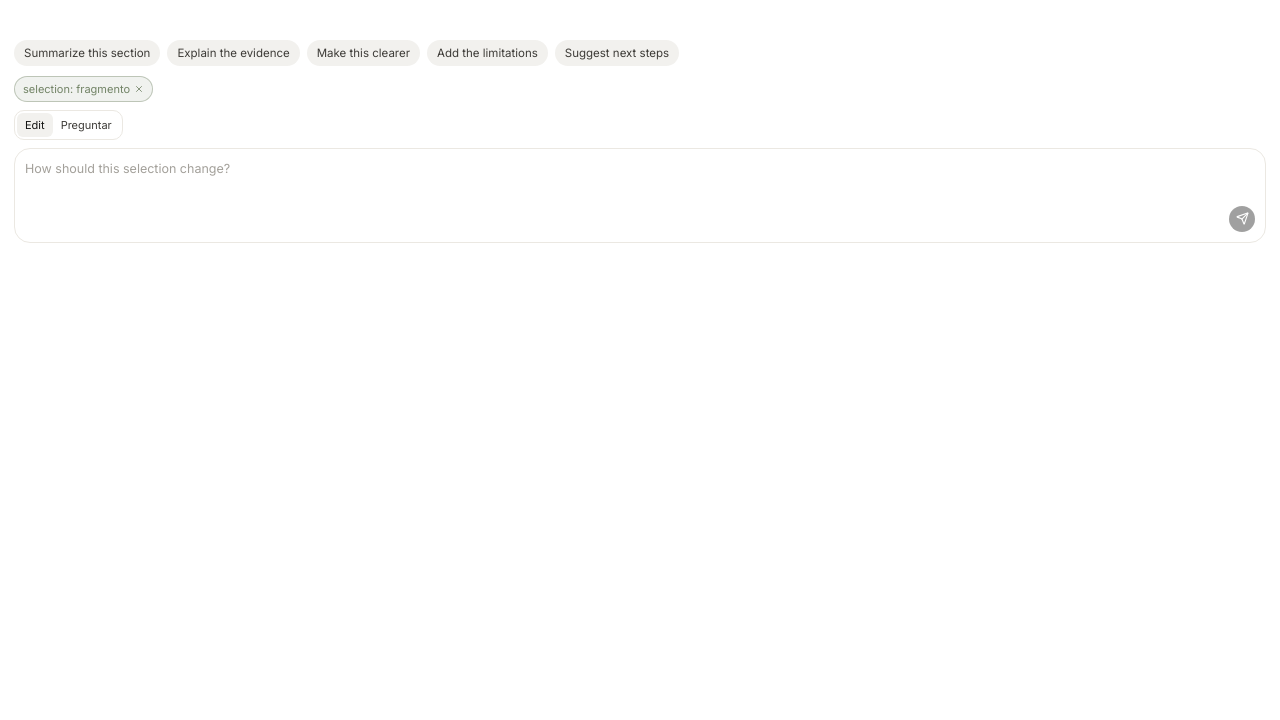
Test: ReportChat › avisa cuando la versión aplicada no dejó registro en la bitácora
The image size is (1280, 720).
In the text box named "Instruction for the editor": (640, 179) [25, 159, 1255, 200], type "Make this clearer"
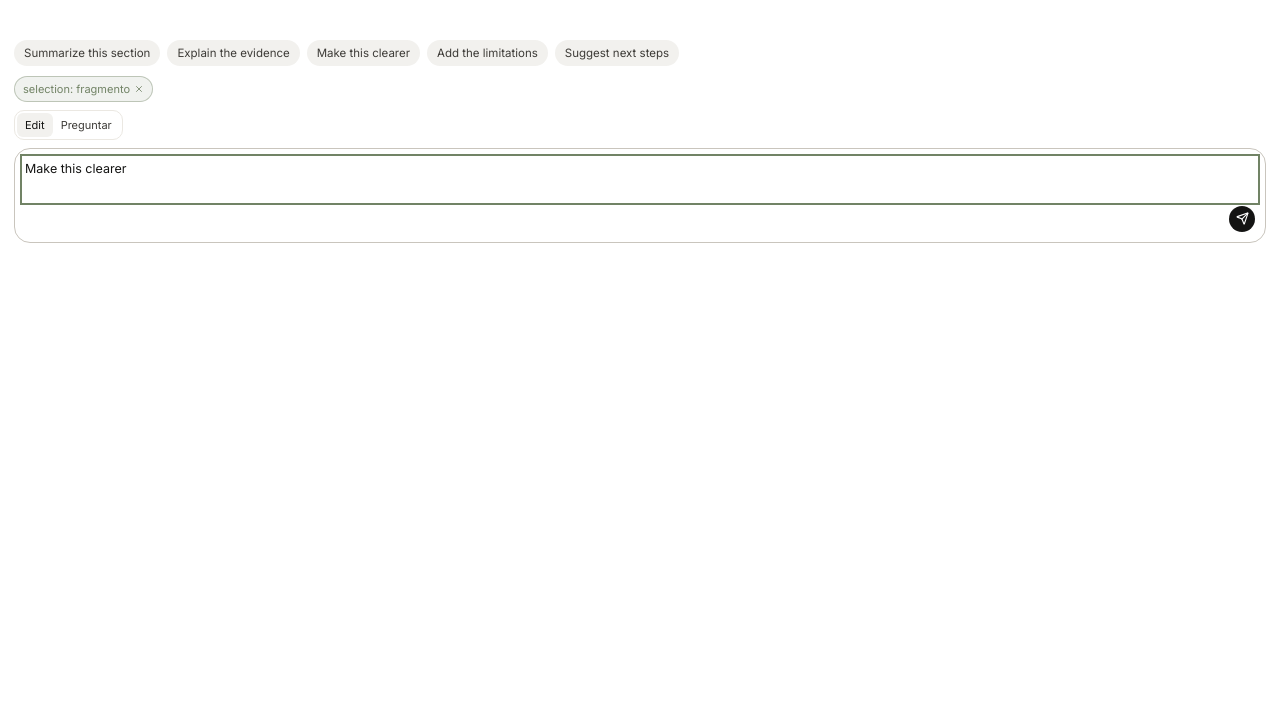
Click the button named "Send": click(1242, 219) [1229, 206, 1255, 232]
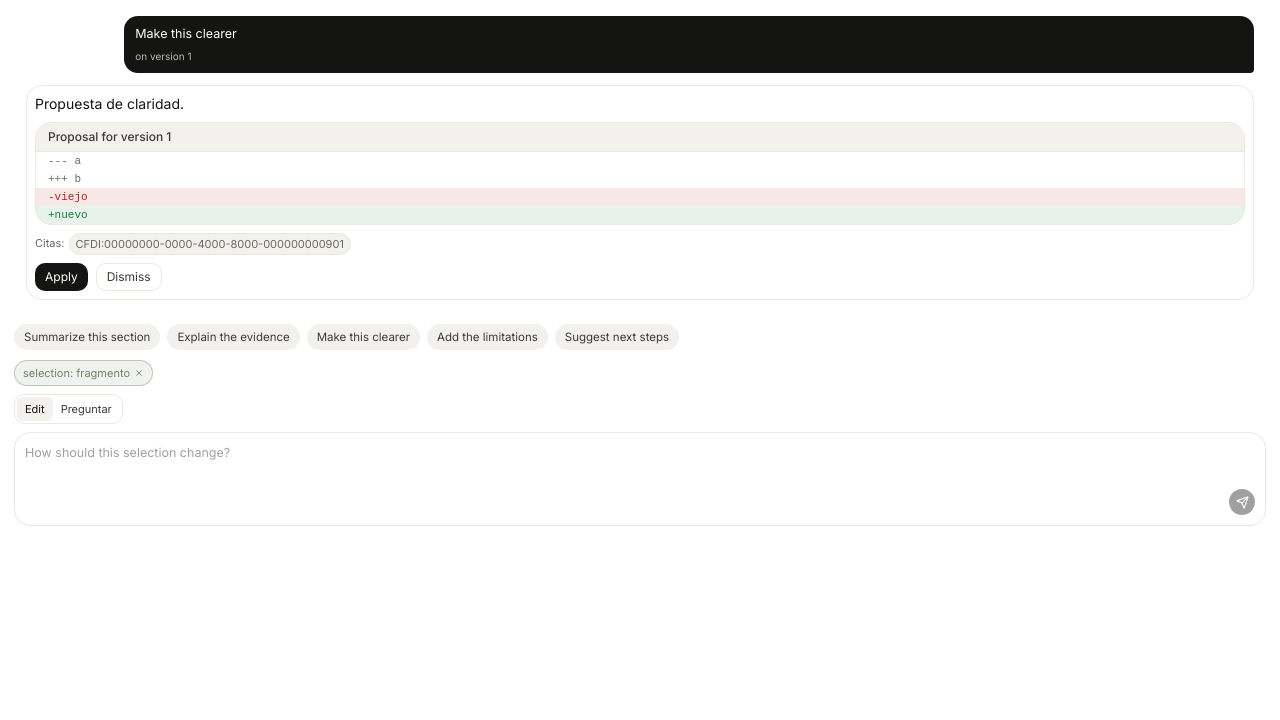
Click the button "Apply": click(61, 277) [35, 263, 88, 291]
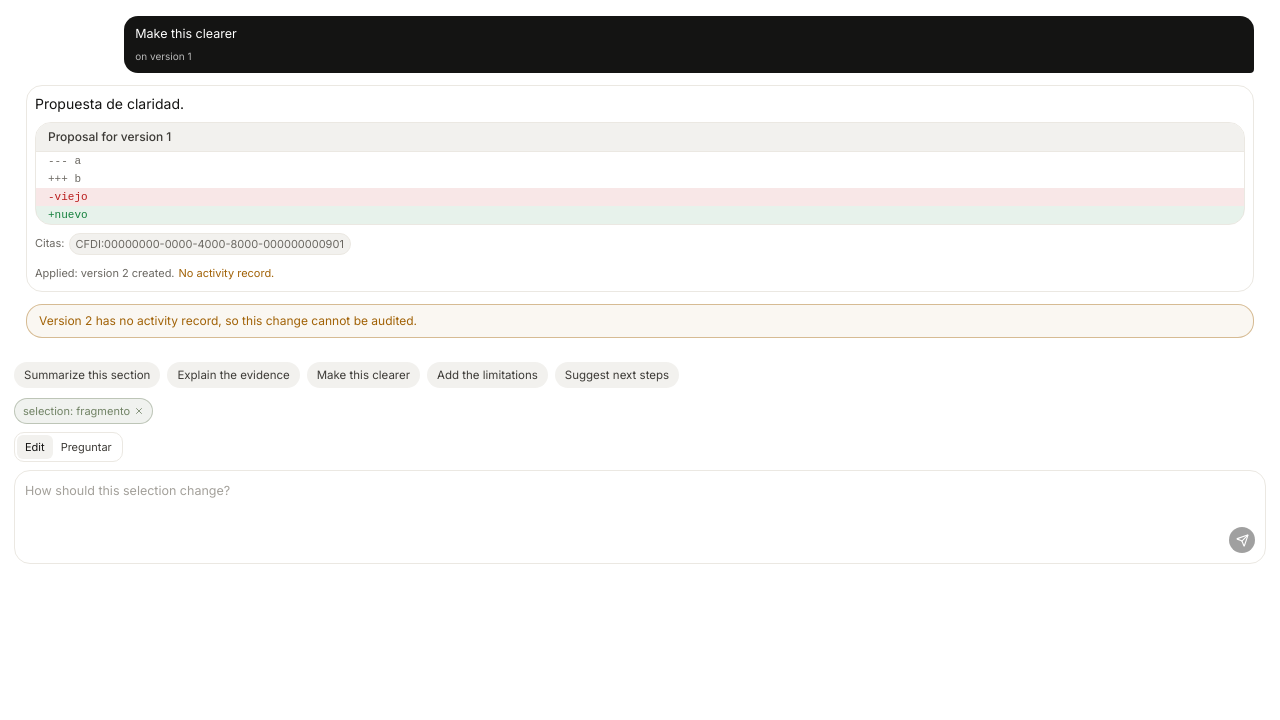
Check: the text "Version 2 has no activity record, so this change cannot be audited." is shown, box [26, 304, 1254, 338]
Check: the text "No activity record." is shown, box [178, 266, 274, 280]
